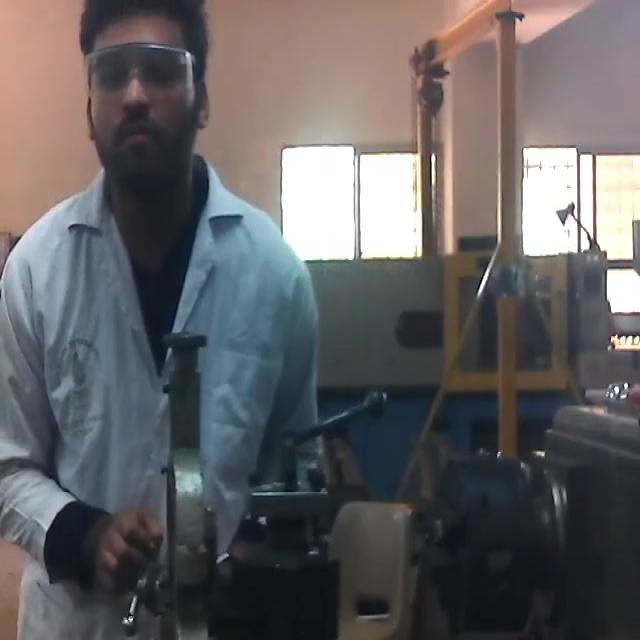googles: (84, 40, 198, 117)
labcoat: (1, 141, 328, 640)
